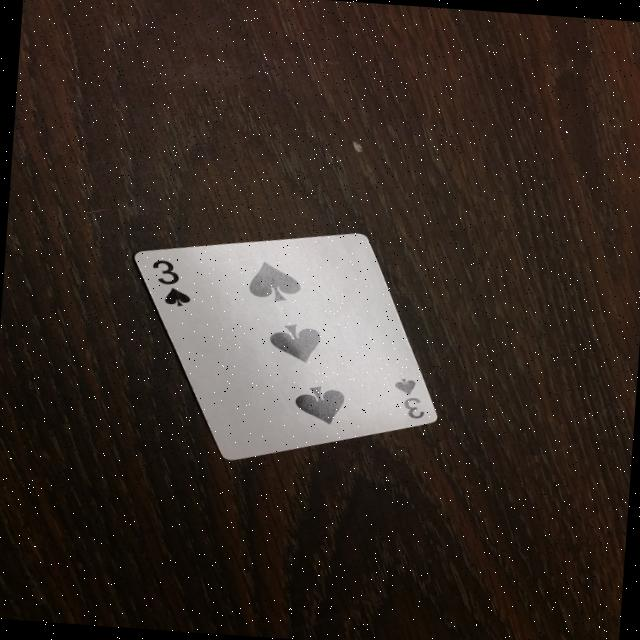3s: (137, 255, 196, 312), (383, 372, 433, 426)
